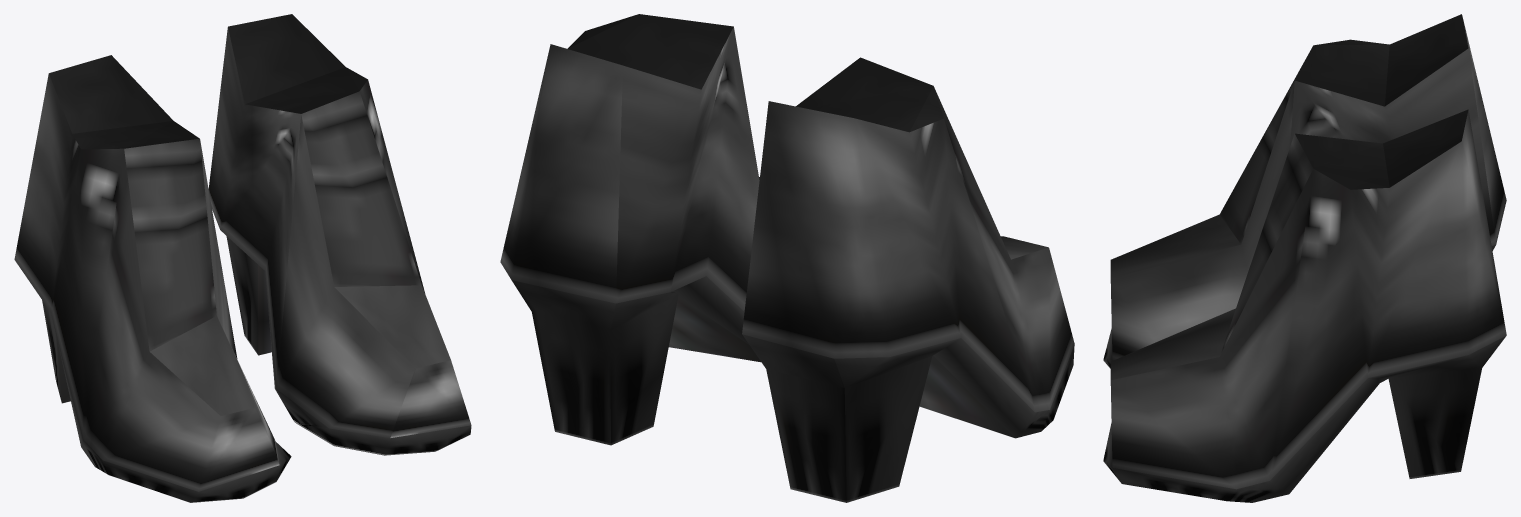
File: heels_Ground.fbx
The picture shows the model from 3 angles, left to right: view 1: azimuth 30°, elevation 25°; view 2: azimuth 150°, elevation 25°; view 3: azimuth 270°, elevation 25°; orthographic projection. The views are drawn at different scales.
Visible parts, largest first — view 1: Body; view 2: Body; view 3: Body.
Boxes of the visible parts, bbox=[...] form: Body: bbox=[14, 14, 471, 502]; Body: bbox=[500, 14, 1074, 502]; Body: bbox=[1103, 14, 1506, 502].
Size of the model in its own units: 0.1318 by 0.1091 by 0.1202.
